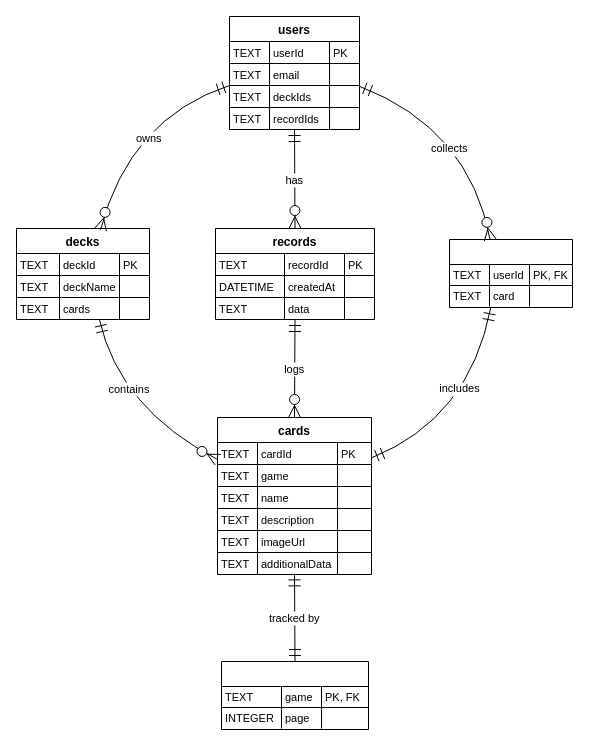
Image size: 589x746. Some labels were removed from this diagram. The shapes that lost their labels are listed below. From the top down, each one's box as (x1, y1, x2, y2) in pixels, then its label:
(448, 238, 572, 308): my_collections
(220, 660, 368, 730): pages
